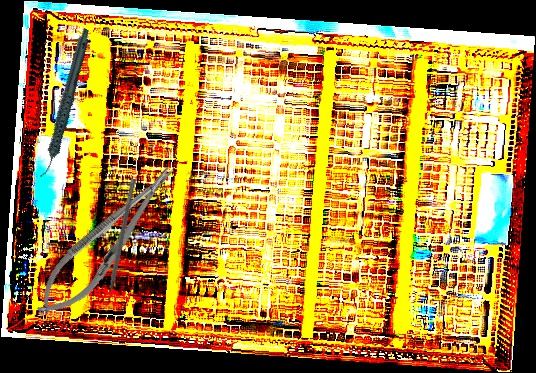Handpiece: (9, 27, 120, 180)
Needle Holder: (23, 153, 190, 330)
Spatula Surgical: (100, 177, 137, 306)
